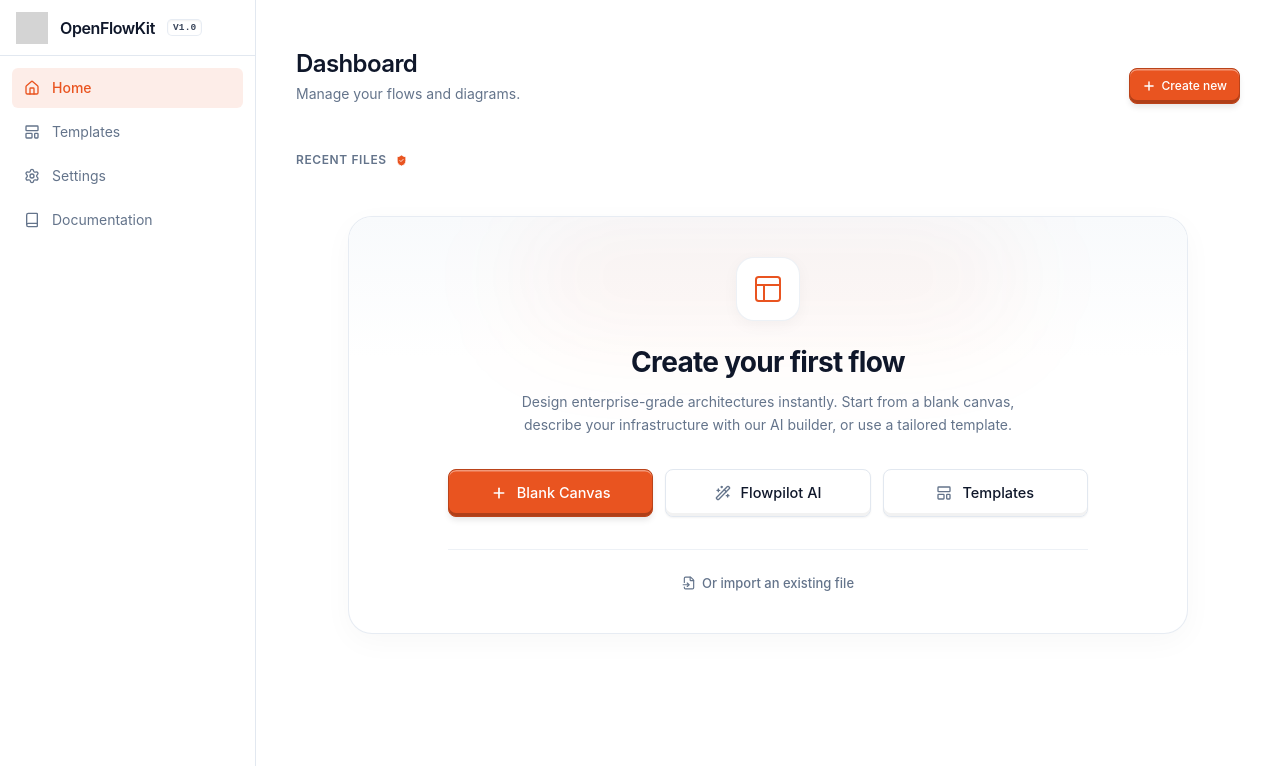
Test case: HomePage integration flows › shows only explicitly featured templates on the homepage templates tab
Step 1. Click the button with test id "sidebar-templates" → {"x": 128, "y": 132}, box x1=12 y1=112 x2=243 y2=152
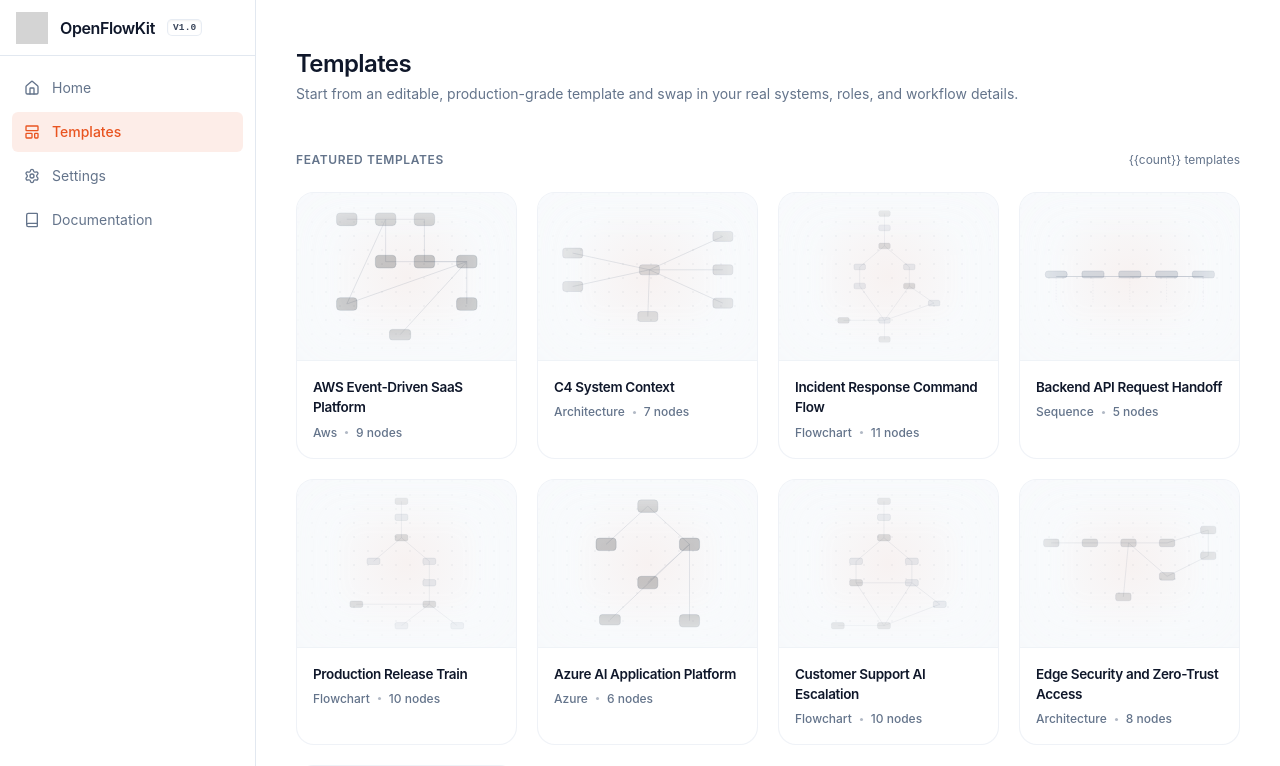
Now the button "AWS Event-Driven SaaS Platform aws 9 nodes" is shown, box x1=296 y1=192 x2=517 y2=458
